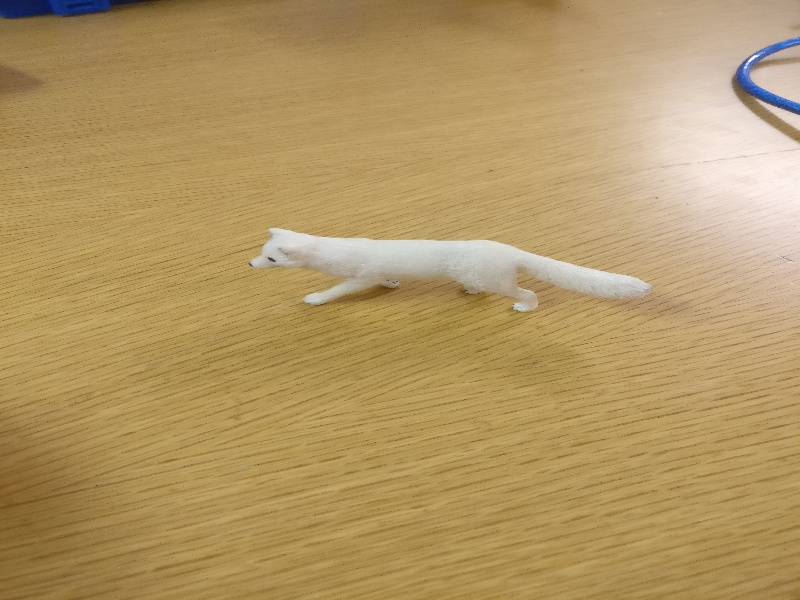toy: (244, 208, 654, 325)
